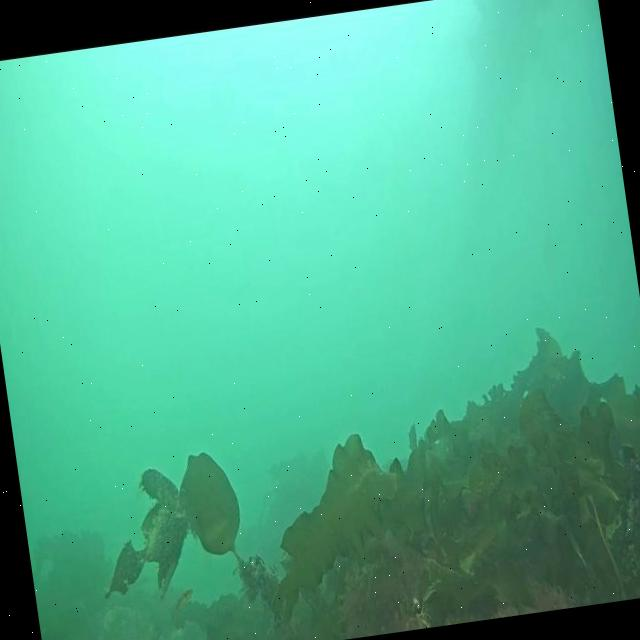fish: (172, 586, 198, 618)
